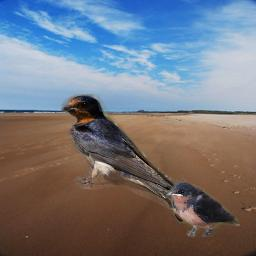Swallow: (61, 94, 200, 214), (166, 181, 240, 237)
